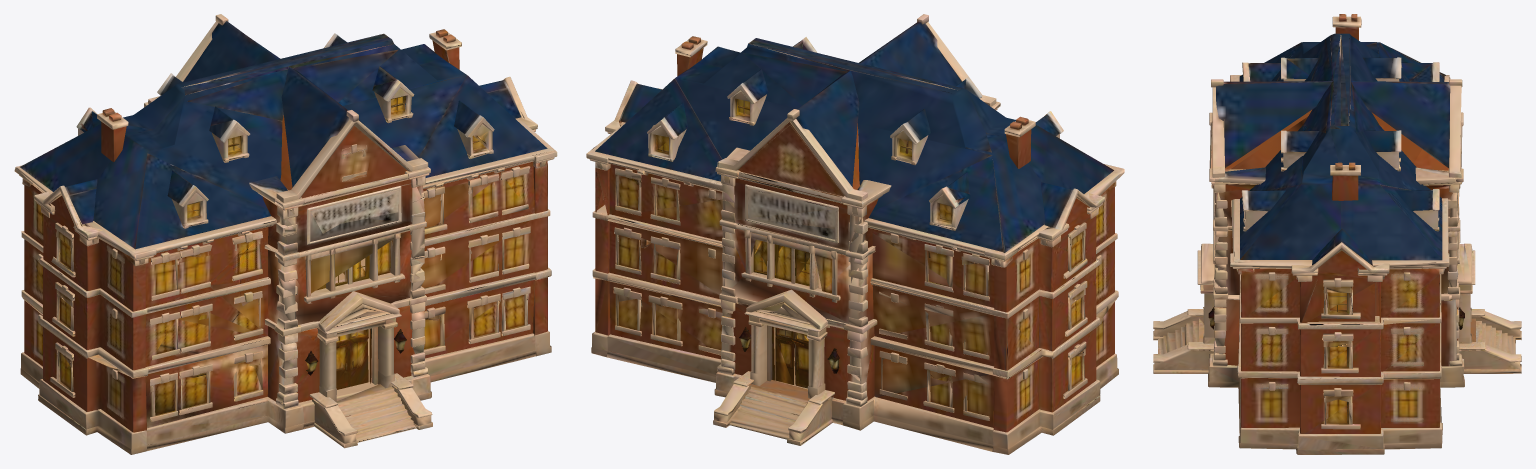
File: school.glb
The picture shows the model from 3 angles, left to right: view 1: azimuth 30°, elevation 25°; view 2: azimuth 150°, elevation 25°; view 3: azimuth 270°, elevation 25°; orthographic projection. The views are drawn at different scales.
Parts seen in each view (by area): view 1: geometry_0; view 2: geometry_0; view 3: geometry_0.
Part boxes in pixels (x1,y1,x2,y2): geometry_0: (14, 14, 557, 454); geometry_0: (586, 14, 1124, 454); geometry_0: (1153, 14, 1521, 454).
Size of the model in its own units: 0.9521 by 0.6069 by 0.7368.
1 material, 1 textured.
